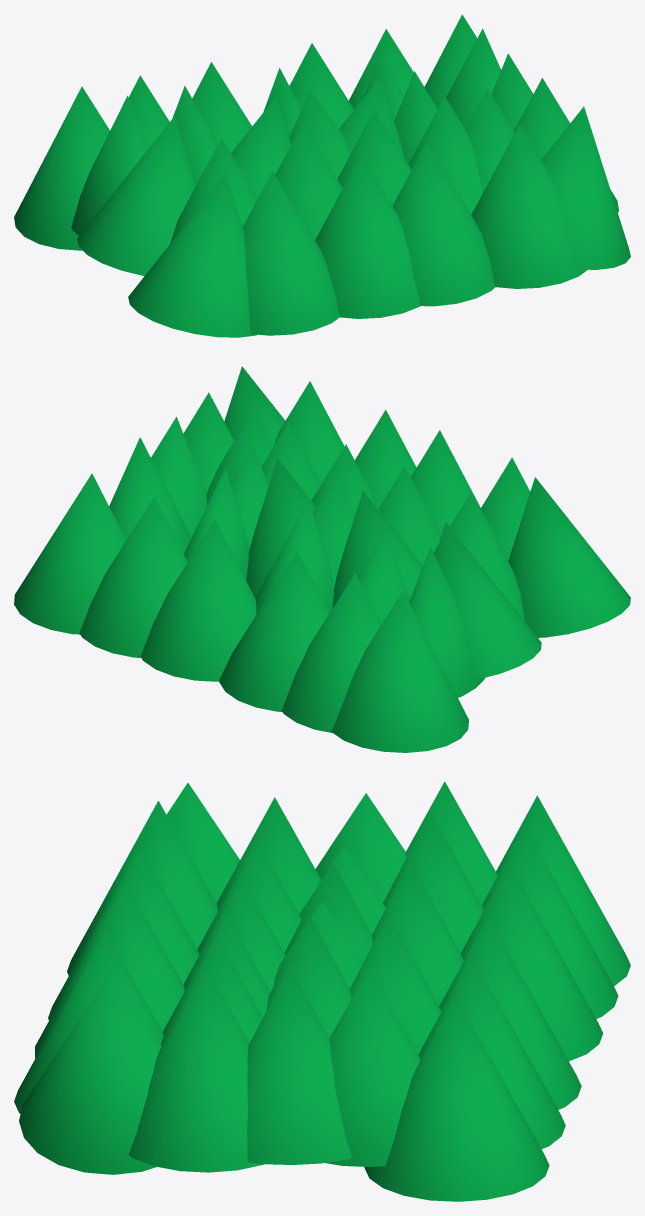
Rendered from Grass L.fbx.
3 renders of one model, top to bottom at view 1: azimuth 30°, elevation 25°; view 2: azimuth 150°, elevation 25°; view 3: azimuth 270°, elevation 25°, orthographic. The views are drawn at different scales.
Parts seen in each view (by area): view 1: polySurface34; view 2: polySurface34; view 3: polySurface34.
Part boxes in pixels (left/top/right/bottom): polySurface34: left=14, top=14, right=630, bottom=337; polySurface34: left=14, top=366, right=630, bottom=752; polySurface34: left=14, top=781, right=630, bottom=1201.
Bounding box in the file's own units: 3.01 × 0.9302 × 2.55.
